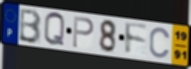8: (98, 19, 118, 55)
B: (18, 8, 43, 45)
C: (148, 26, 172, 60)
F: (124, 21, 149, 56)
P: (72, 15, 95, 50)
Q: (43, 11, 66, 48)
